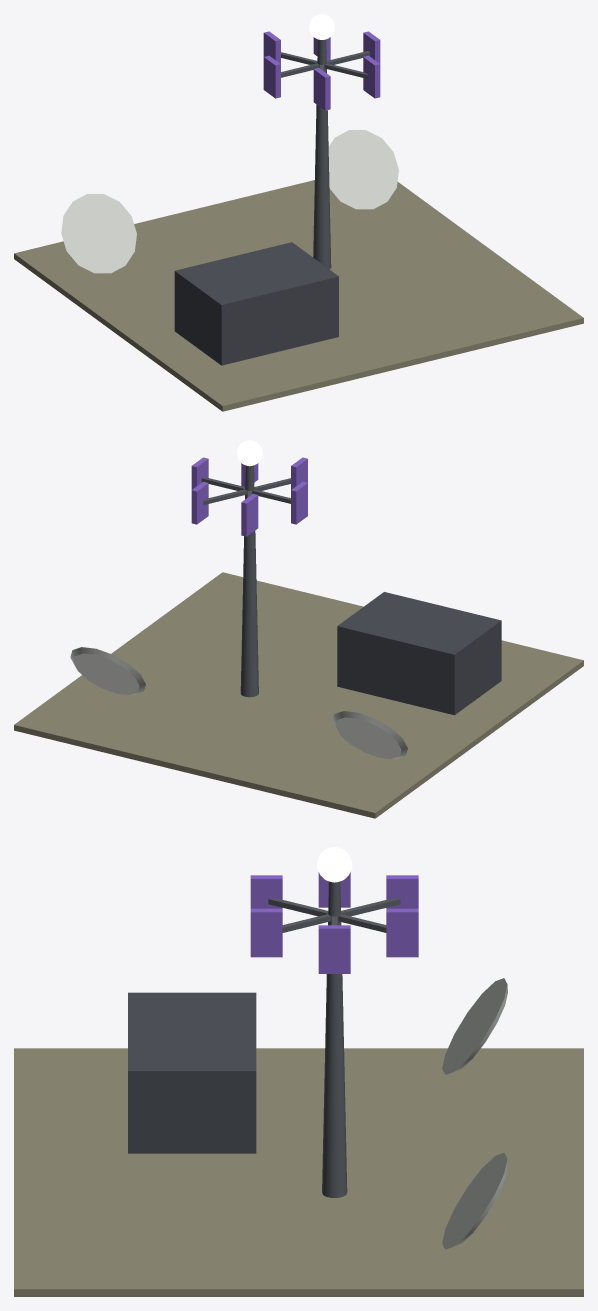
Rendered from jammer_site.glb.
The picture shows the model from 3 angles, top to bottom: view 1: azimuth 30°, elevation 25°; view 2: azimuth 150°, elevation 25°; view 3: azimuth 270°, elevation 25°; orthographic projection. The views are drawn at different scales.
Parts seen in each view (by area): view 1: _MeshInstance3D_19, _MeshInstance3D_20, _MeshInstance3D_32, _MeshInstance3D_33, _MeshInstance3D_21, _MeshInstance3D_24, _MeshInstance3D_29, _MeshInstance3D_26, _MeshInstance3D_31; view 2: _MeshInstance3D_19, _MeshInstance3D_20, _MeshInstance3D_21, _MeshInstance3D_33, _MeshInstance3D_32, _MeshInstance3D_27, _MeshInstance3D_30, _MeshInstance3D_24, _MeshInstance3D_31, _MeshInstance3D_25, _MeshInstance3D_22; view 3: _MeshInstance3D_19, _MeshInstance3D_20, _MeshInstance3D_21, _MeshInstance3D_33, _MeshInstance3D_32, _MeshInstance3D_30, _MeshInstance3D_26, _MeshInstance3D_23, _MeshInstance3D_29, _MeshInstance3D_27, _MeshInstance3D_31, _MeshInstance3D_25 (+2 smaller).
Part boxes in pixels (x1,y1,x2,y2): _MeshInstance3D_19: (14, 180, 583, 411); _MeshInstance3D_20: (174, 242, 338, 365); _MeshInstance3D_32: (61, 194, 136, 273); _MeshInstance3D_33: (328, 130, 398, 209); _MeshInstance3D_21: (313, 39, 331, 269); _MeshInstance3D_24: (263, 55, 280, 98); _MeshInstance3D_29: (313, 68, 330, 110); _MeshInstance3D_26: (363, 55, 380, 98); _MeshInstance3D_31: (309, 14, 334, 39); _MeshInstance3D_19: (14, 572, 583, 818); _MeshInstance3D_20: (337, 592, 501, 715); _MeshInstance3D_21: (240, 465, 258, 697); _MeshInstance3D_33: (70, 647, 145, 695); _MeshInstance3D_32: (332, 711, 407, 758); _MeshInstance3D_27: (241, 494, 258, 536); _MeshInstance3D_30: (191, 481, 208, 524); _MeshInstance3D_24: (291, 481, 307, 524); _MeshInstance3D_31: (237, 440, 262, 466); _MeshInstance3D_25: (203, 478, 290, 505); _MeshInstance3D_22: (201, 477, 290, 503); _MeshInstance3D_19: (14, 1048, 583, 1296); _MeshInstance3D_20: (128, 992, 256, 1153); _MeshInstance3D_21: (322, 881, 347, 1197); _MeshInstance3D_33: (442, 1153, 507, 1249); _MeshInstance3D_32: (442, 978, 507, 1074); _MeshInstance3D_30: (386, 908, 418, 957); _MeshInstance3D_26: (250, 908, 282, 957); _MeshInstance3D_23: (318, 925, 350, 973); _MeshInstance3D_29: (250, 875, 282, 908); _MeshInstance3D_27: (386, 875, 418, 908); _MeshInstance3D_31: (317, 847, 352, 882); _MeshInstance3D_25: (268, 899, 386, 932).
Bounding box in the file's own units: 8 × 5.45 × 8.
